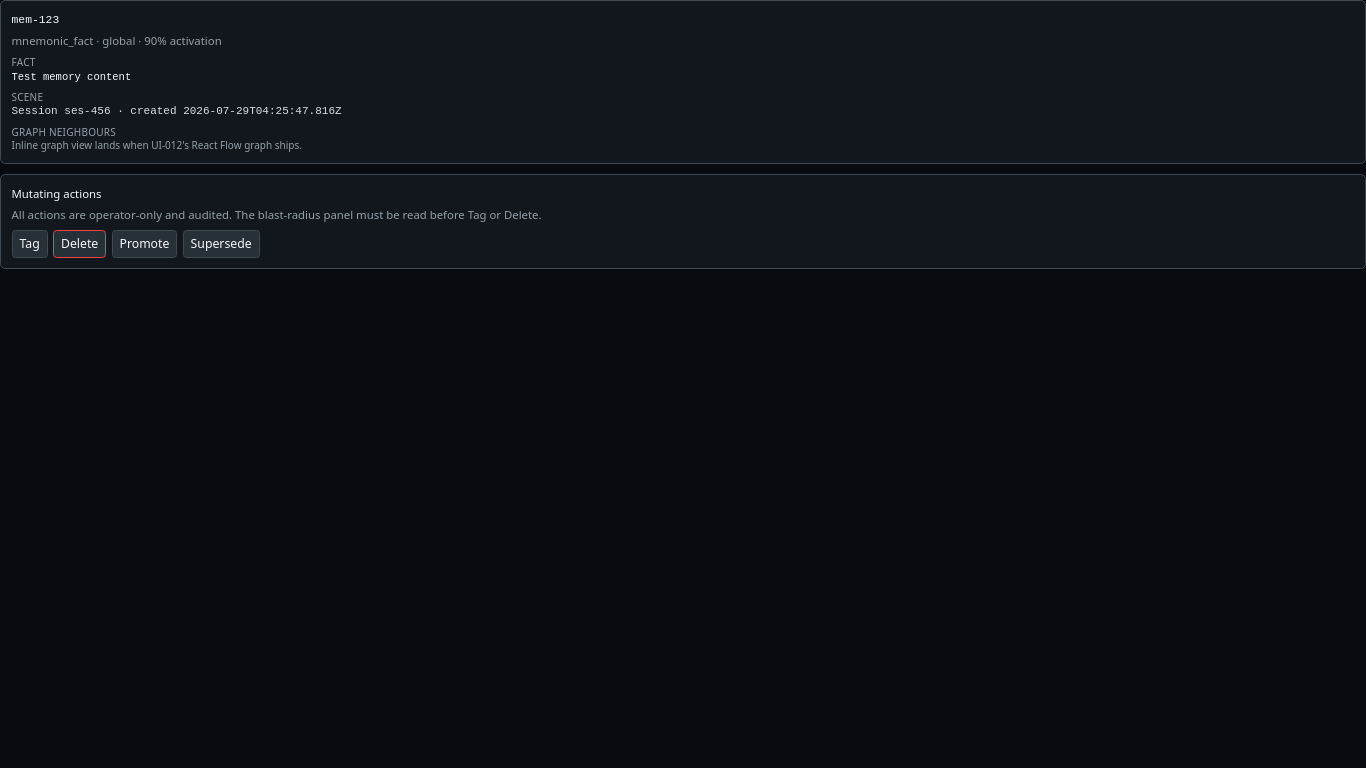
Test: MemoryDetail › surfaces ErrorState on mutation failure
Click the button with aria-label "Tag memory": (30, 244) [12, 230, 48, 258]
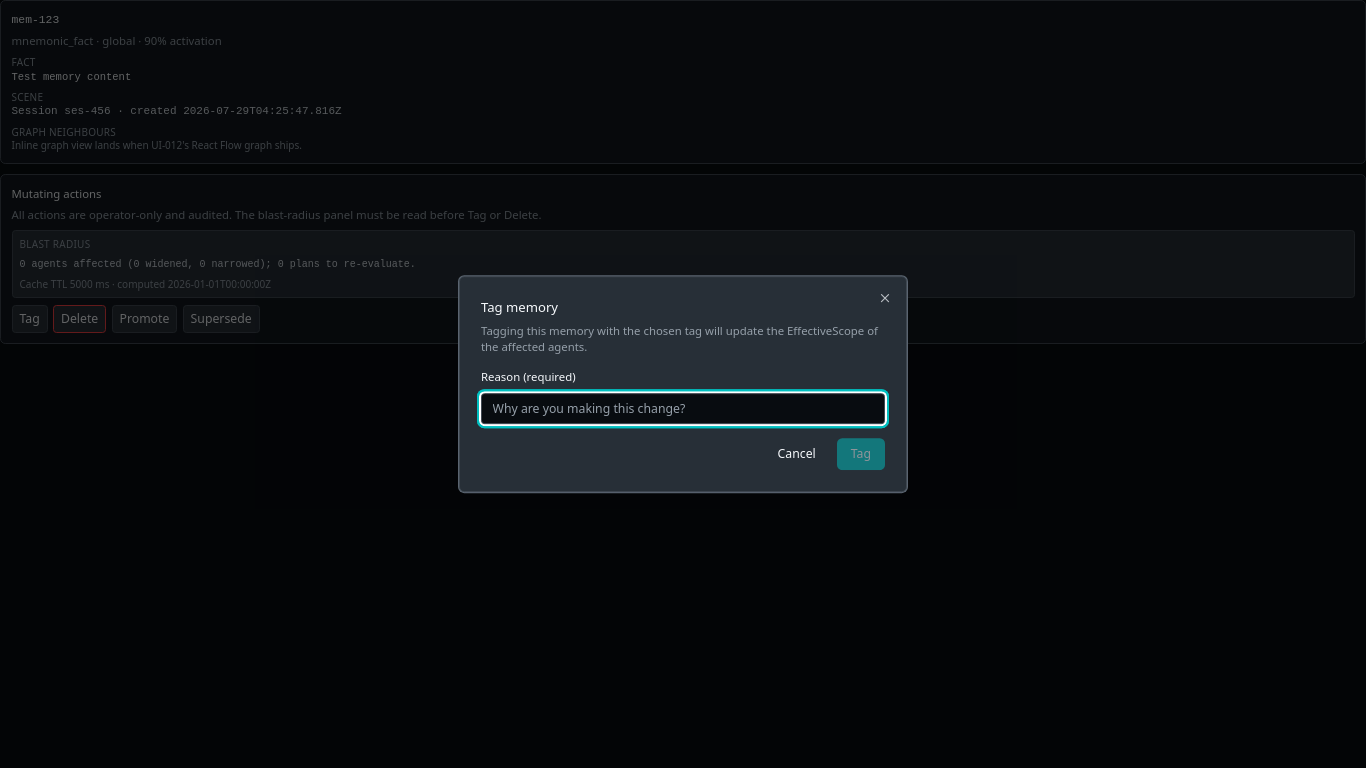
Expected: the field labelled "Reason (required)" is shown
In the field labelled "Reason (required)": (683, 409) [481, 393, 885, 424], type "user requested"
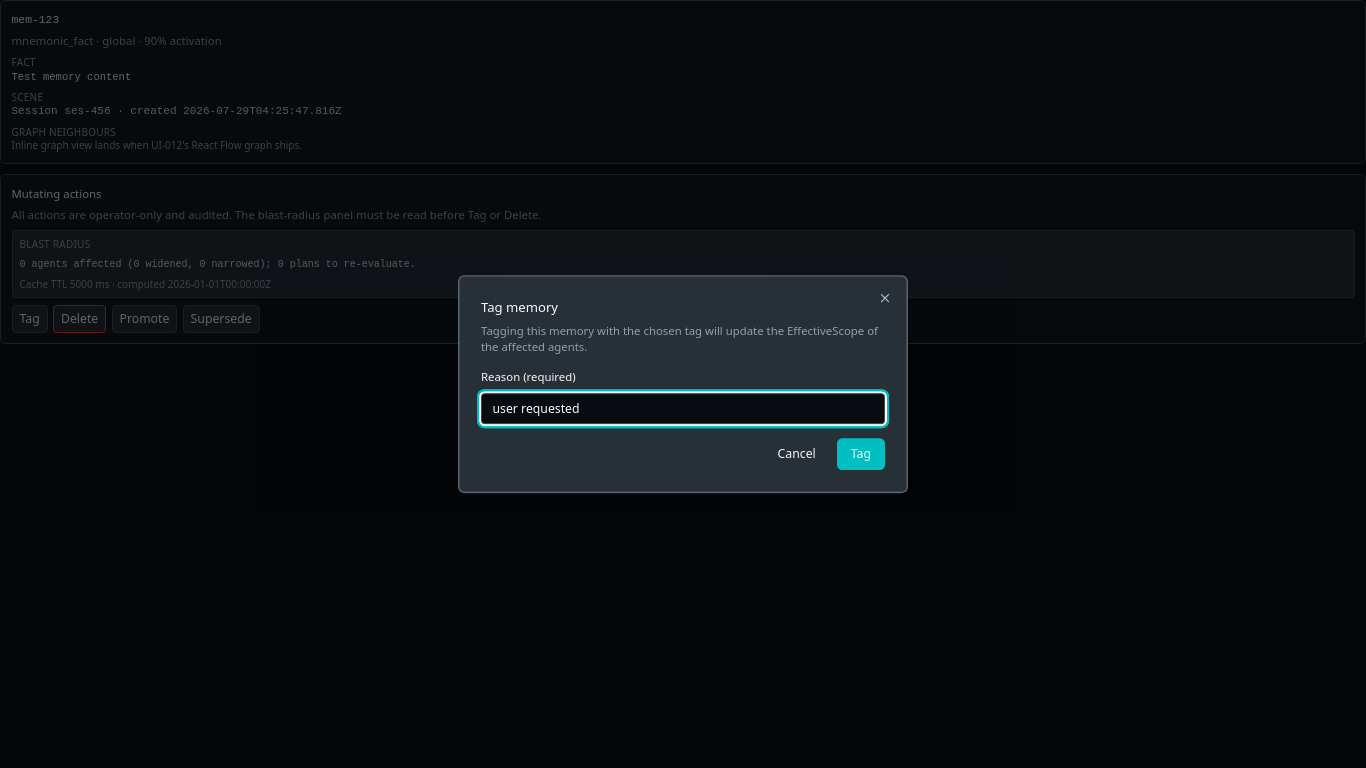
Click the button "Tag": (861, 454) [837, 438, 885, 470]
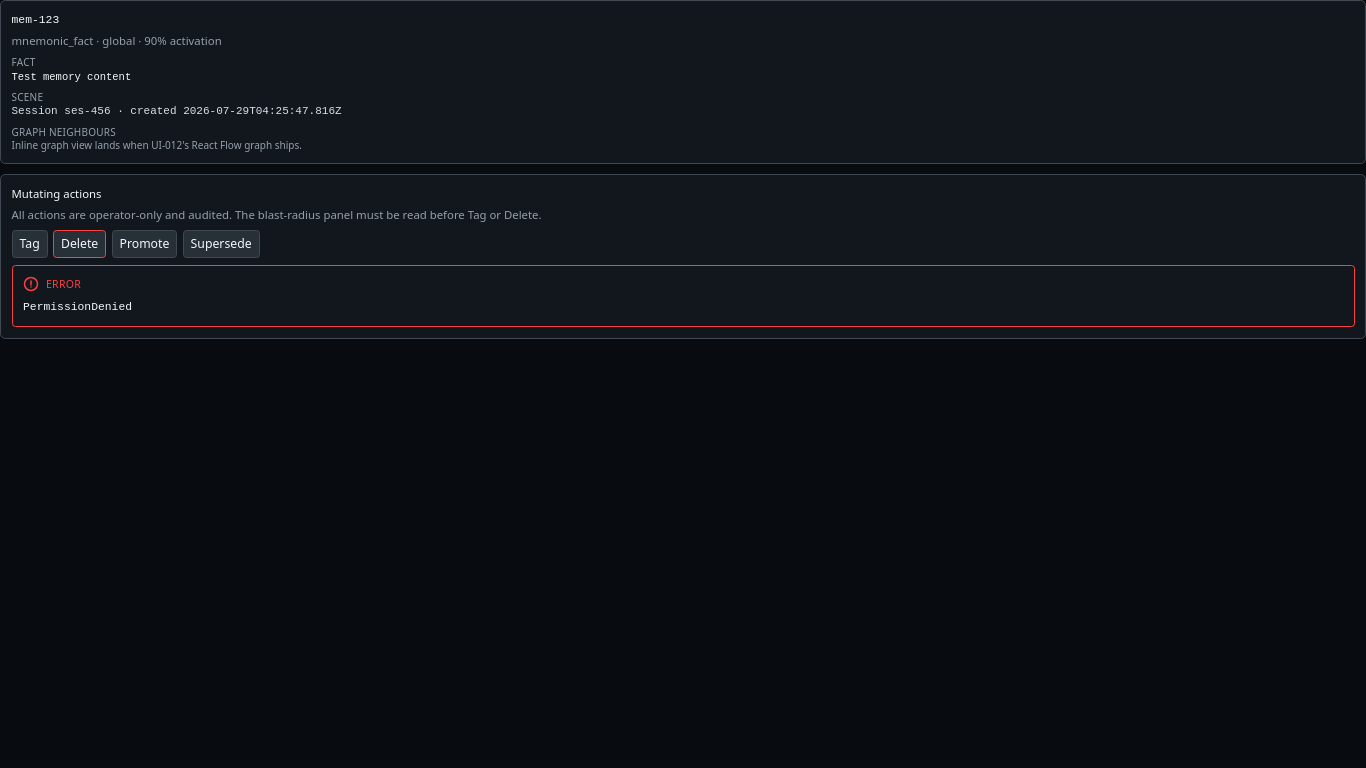
Expected: the message shows "PermissionDenied", [23, 301, 132, 313]
